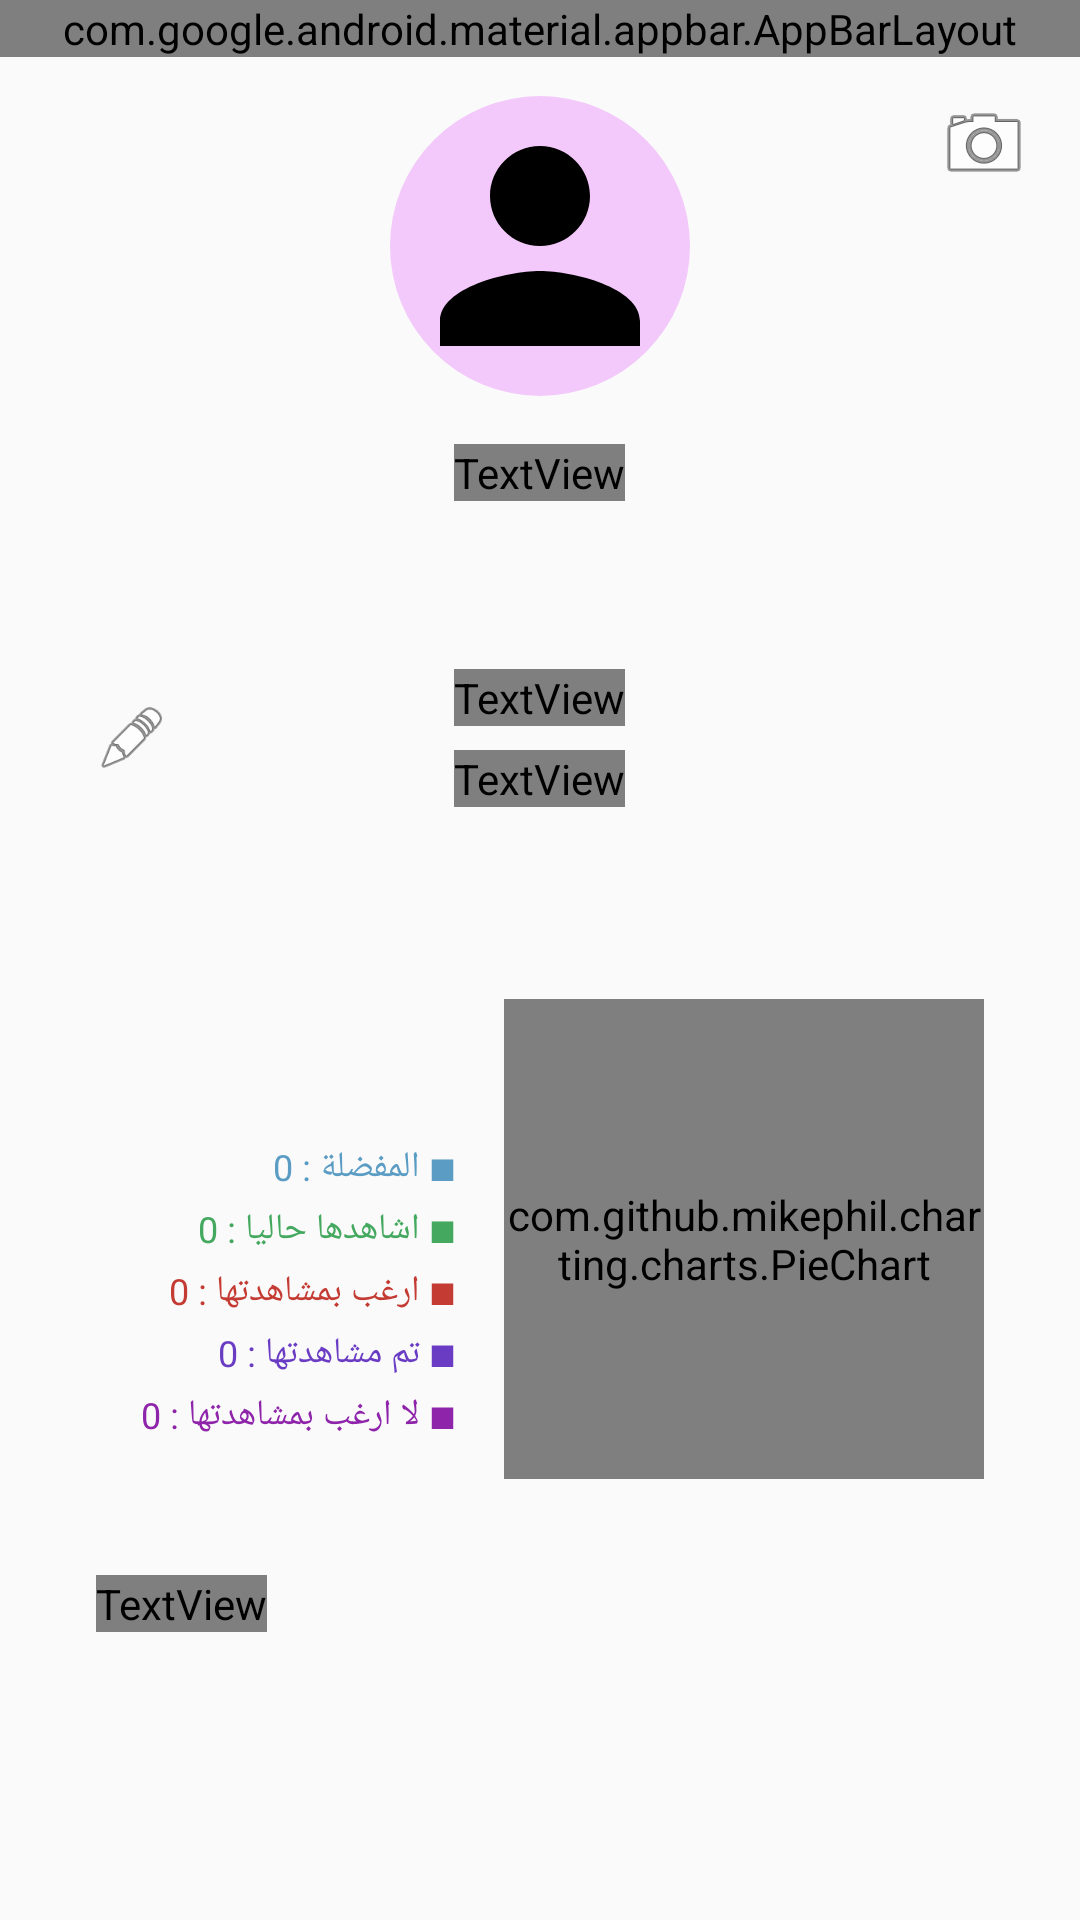

Icon click points for this 1080px x 1920px phone screenshot, format (x,y):
camera: (984,142)
drawer profile: (540,246)
edit: (131,737)
